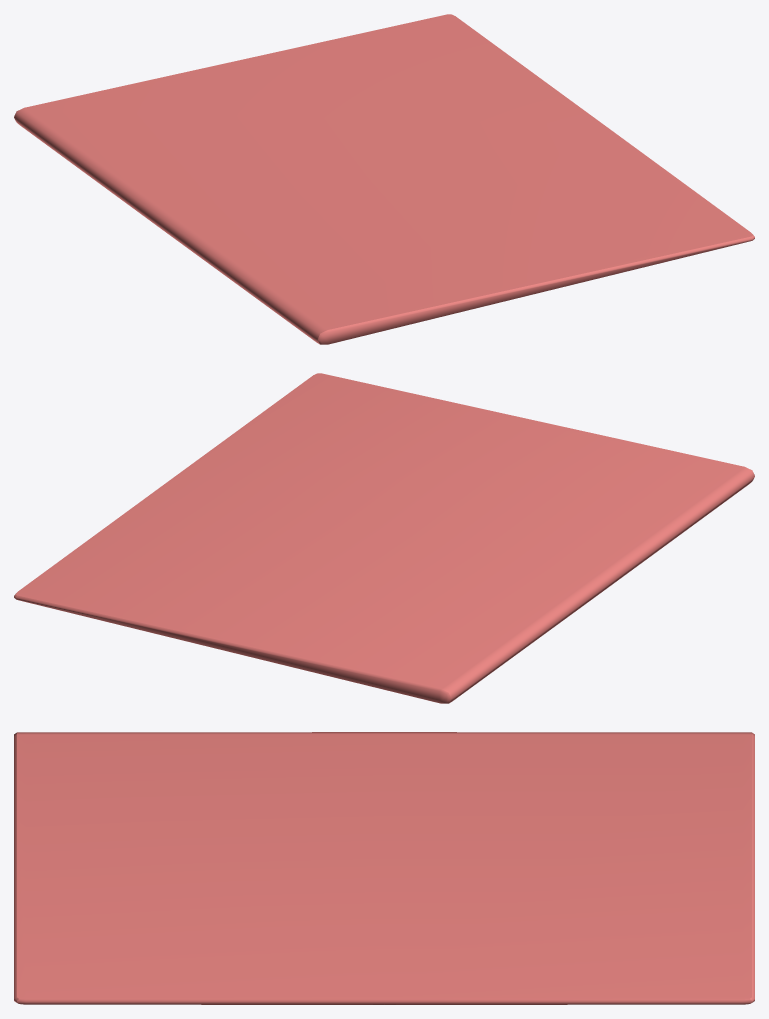
The model's file is 판-붉은색.fbx.
3 renders of one model, top to bottom at view 1: azimuth 30°, elevation 25°; view 2: azimuth 150°, elevation 25°; view 3: azimuth 270°, elevation 25°, orthographic. The views are drawn at different scales.
Visible parts, largest first — view 1: school_notebook; view 2: school_notebook; view 3: school_notebook.
Boxes of the visible parts, <box> form: school_notebook: <box>14,14,754,344</box>; school_notebook: <box>14,373,754,703</box>; school_notebook: <box>14,732,754,1004</box>.
Bounding box in the file's own units: 1698 × 54.46 × 2050.
